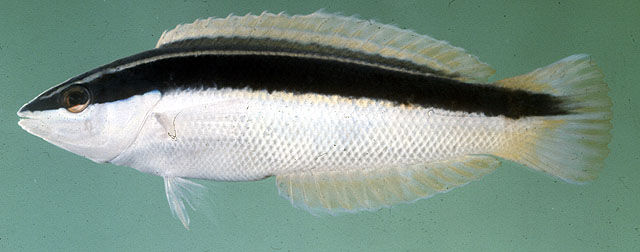fish: (17, 10, 614, 230)
